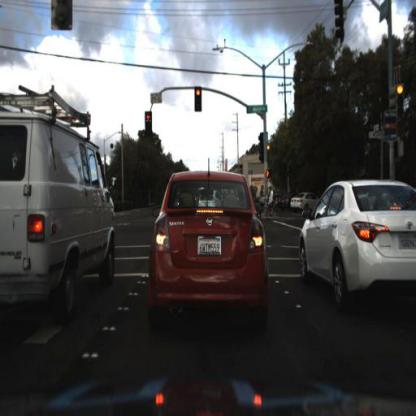biker: (265, 179, 278, 223), (264, 183, 275, 224)
car: (1, 85, 125, 322), (149, 168, 270, 326), (301, 182, 416, 302), (290, 188, 321, 211)
trafficLight-Red: (395, 85, 407, 119), (397, 80, 406, 98), (266, 143, 274, 161), (196, 90, 202, 113)
trafficLight-RedLeft: (145, 111, 153, 141), (145, 111, 151, 127)
truck: (1, 115, 117, 302)
